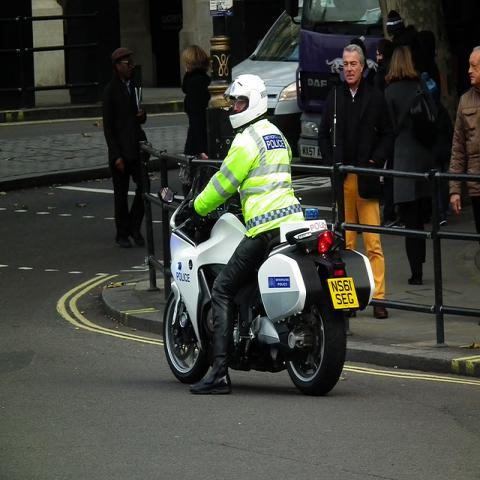bus: (298, 2, 389, 171)
motorcycle: (161, 164, 360, 393)
truck: (230, 3, 383, 119)
